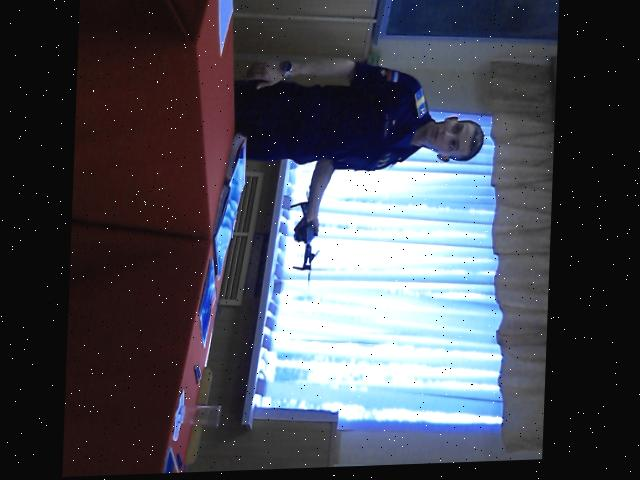drone: (286, 190, 343, 287)
